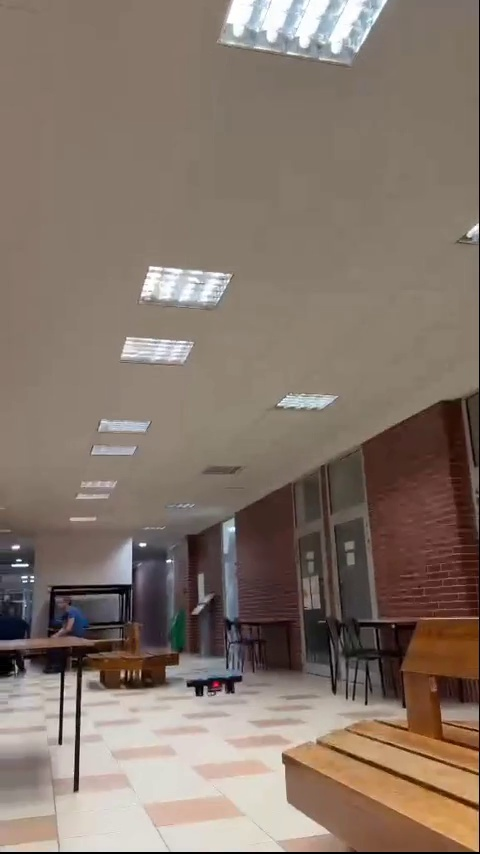drone: (185, 674, 244, 699)
no vest: (52, 596, 92, 645)
